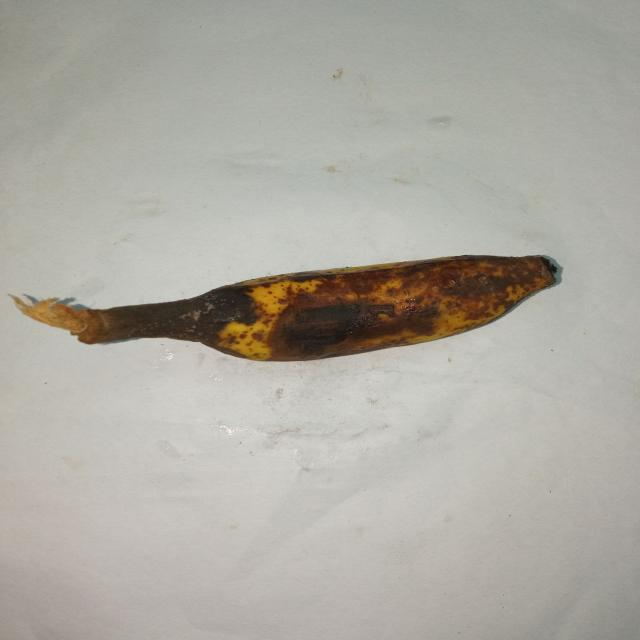rotten_banana: (87, 256, 553, 363)
